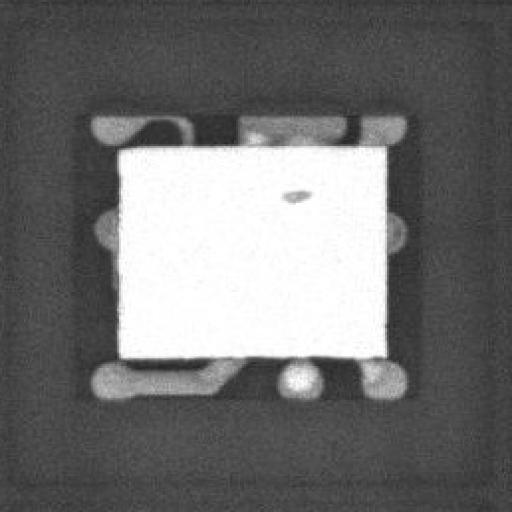DIE_INK: (266, 192, 298, 210)
